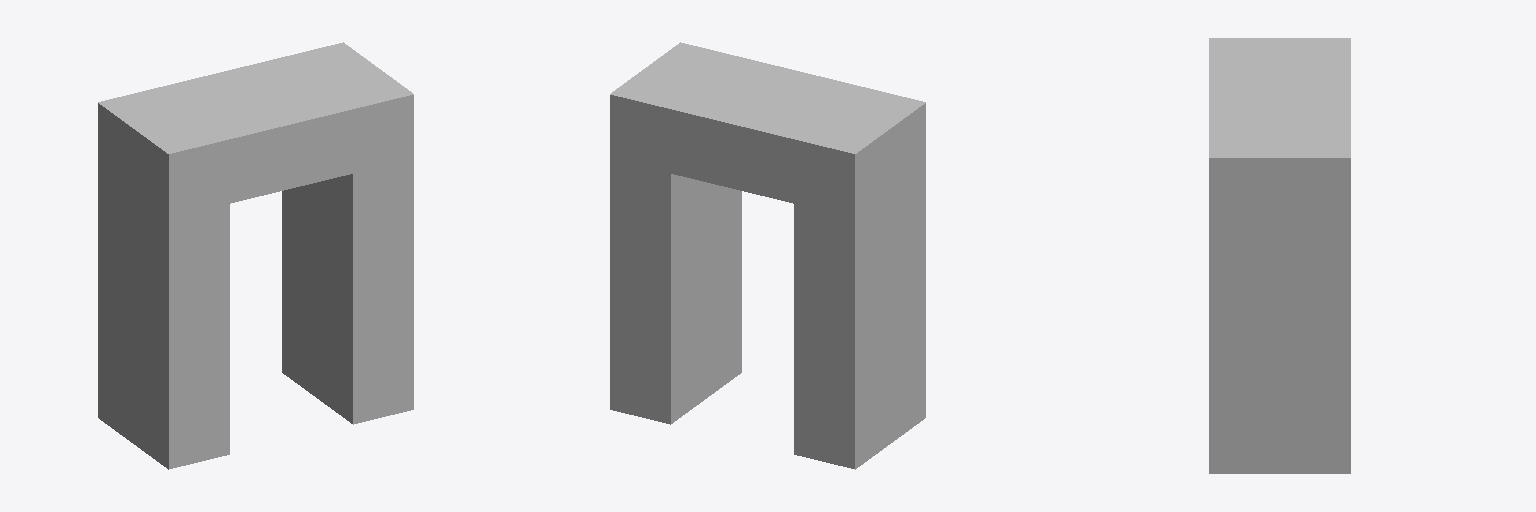
File: gate1_col.obj
3 views of the same model, side by side, from view 1: azimuth 30°, elevation 25°; view 2: azimuth 150°, elevation 25°; view 3: azimuth 270°, elevation 25° (orthographic).
Visible parts, largest first — view 1: Cube.002_Cube.003, Cube_Cube.002, Cube.003_Cube.004; view 2: Cube.002_Cube.003, Cube_Cube.002, Cube.003_Cube.004; view 3: Cube_Cube.002, Cube.003_Cube.004, Cube.002_Cube.003.
Boxes of the visible parts, x1,y1,x2,y2 form: Cube.002_Cube.003: [98, 87, 229, 469]; Cube_Cube.002: [282, 42, 413, 424]; Cube.003_Cube.004: [159, 57, 352, 203]; Cube.002_Cube.003: [794, 87, 925, 469]; Cube_Cube.002: [610, 42, 741, 424]; Cube.003_Cube.004: [671, 57, 864, 203]; Cube_Cube.002: [1209, 128, 1350, 473]; Cube.003_Cube.004: [1209, 68, 1350, 127]; Cube.002_Cube.003: [1209, 38, 1350, 67].
Size of the model in its own units: 4 by 4.9 by 2.